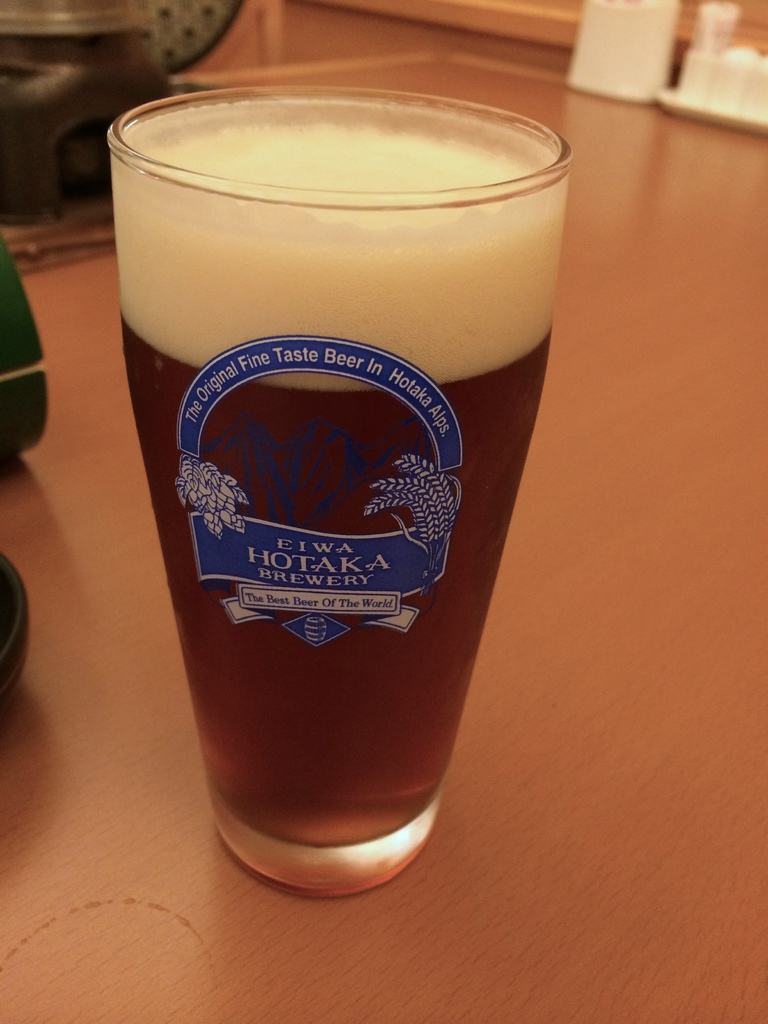Beer: (124, 112, 552, 855)
